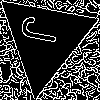J: (20, 14, 68, 47)
